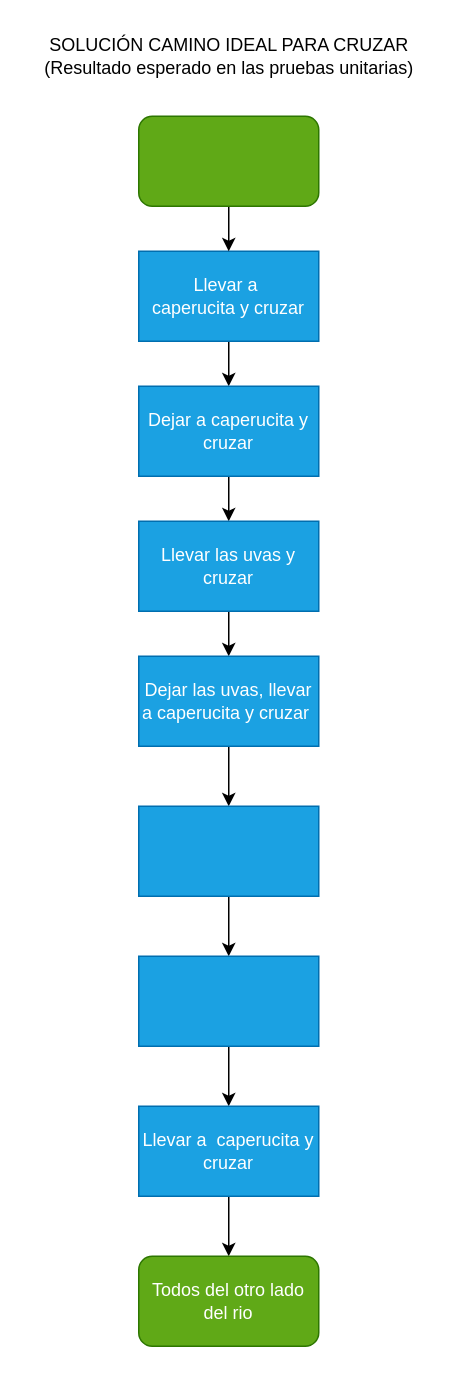
The diagram is 456 pixels wide and 1373 high, and some of its shapes have lost their labels. Each missing label, with the centre of its shape:
"Dejar a caperucita, llevar al lobo y cruzar" goes at [228,850].
"Dejar al lobo y cruzar" goes at [228,1000].
"Estado inicial" goes at [228,160].
